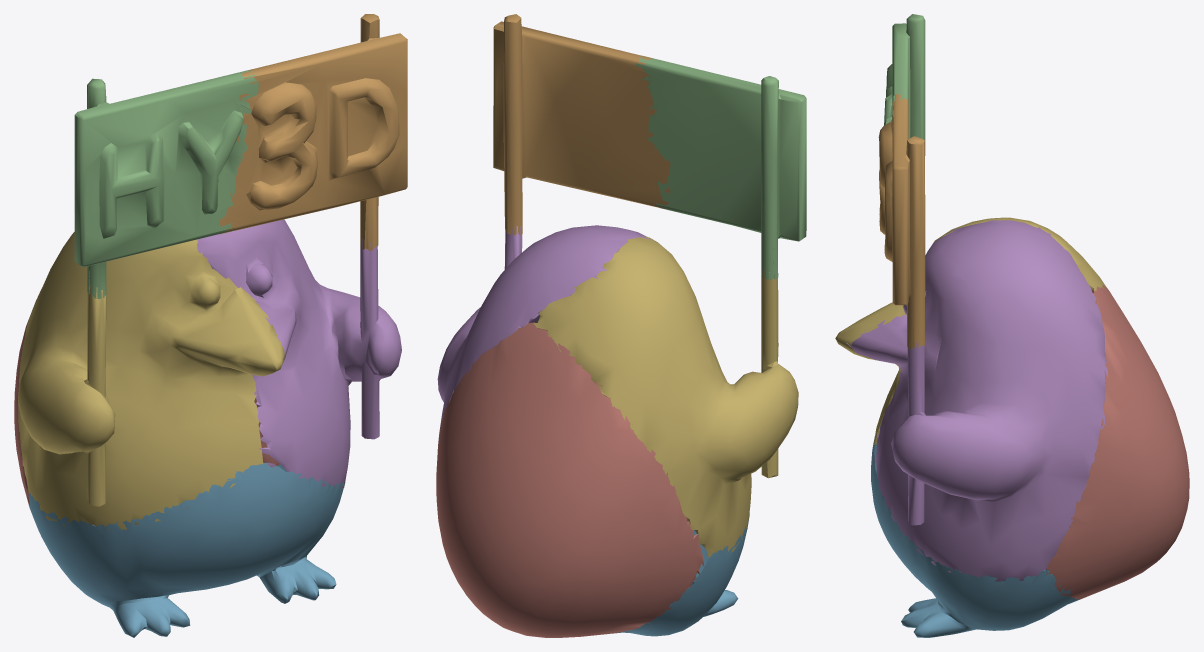
Rendered from demo-parts_preview_web.glb.
3 renders of one model, left to right at view 1: azimuth 30°, elevation 25°; view 2: azimuth 150°, elevation 25°; view 3: azimuth 270°, elevation 25°, orthographic. The views are drawn at different scales.
Visible parts, largest first — view 1: part_00_preview; view 2: part_00_preview; view 3: part_00_preview.
Boxes of the visible parts, x1,y1,x2,y2 form: part_00_preview: (14, 14, 407, 637); part_00_preview: (436, 14, 806, 637); part_00_preview: (835, 14, 1189, 637).
Size of the model in its own units: 1.27 by 2 by 1.24.
